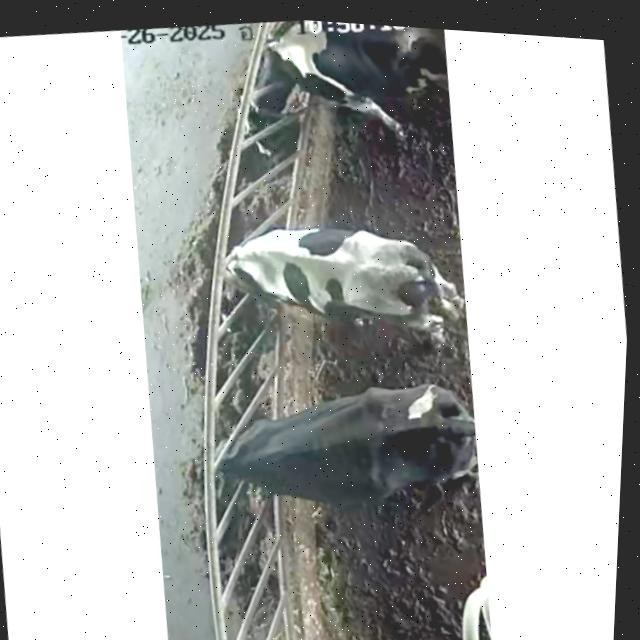eat: (192, 13, 384, 179), (174, 392, 337, 524), (179, 204, 331, 330)
